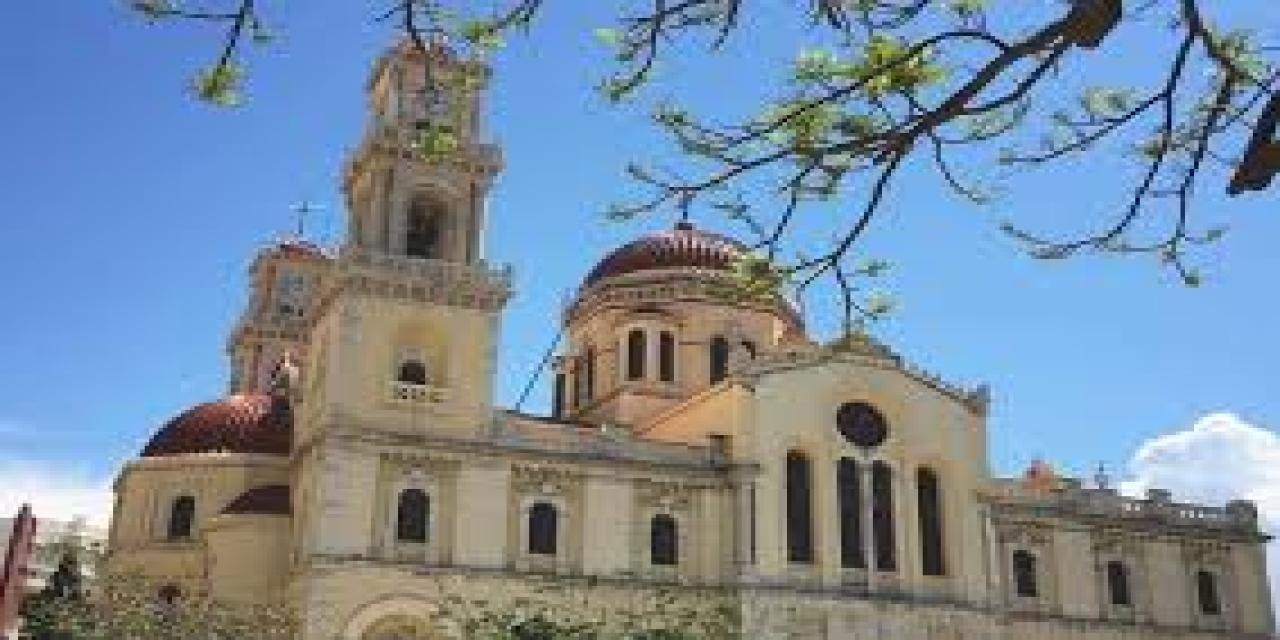Agios Minas: (95, 1, 1280, 640)
